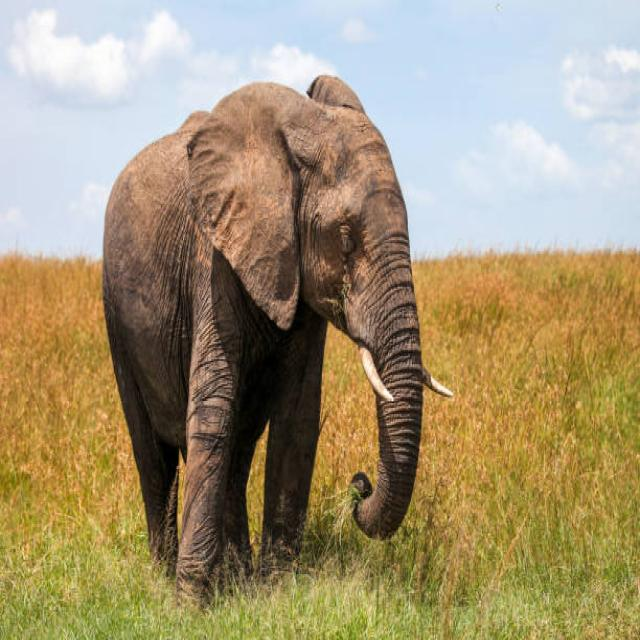Elephant: (102, 50, 454, 639)
